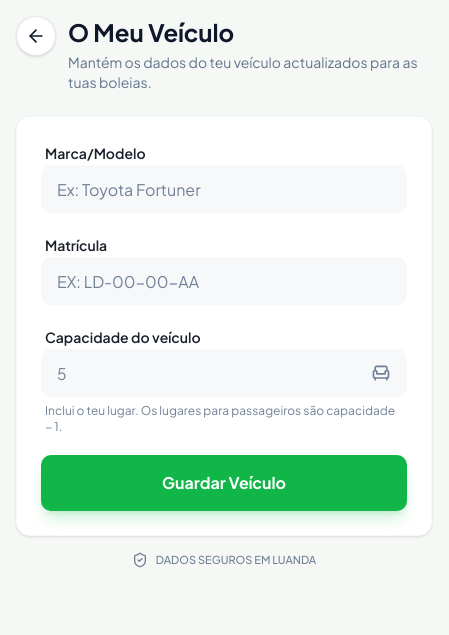
Scenario: VehicleSetup — Fluxo Upsert (Opção B — BD como Fonte da Verdade) › Submissão — .upsert() com onConflict: id_motorista › mostra mensagem de sucesso após upsert bem-sucedido
The image size is (449, 635).
Type "Toyota Hiace" into the field labelled "Marca/Modelo".
click(224, 189); type("Toyota Hiace")  # box [41,165,407,213]
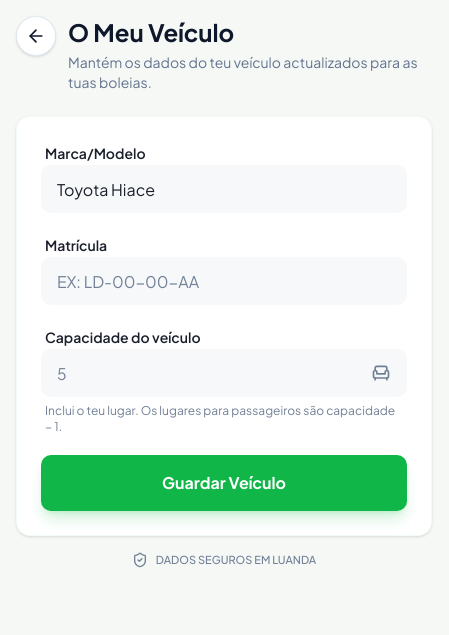
Type "LD-12-34-AB" into the field labelled "Matrícula".
click(224, 281); type("LD-12-34-AB")  # box [41,257,407,305]
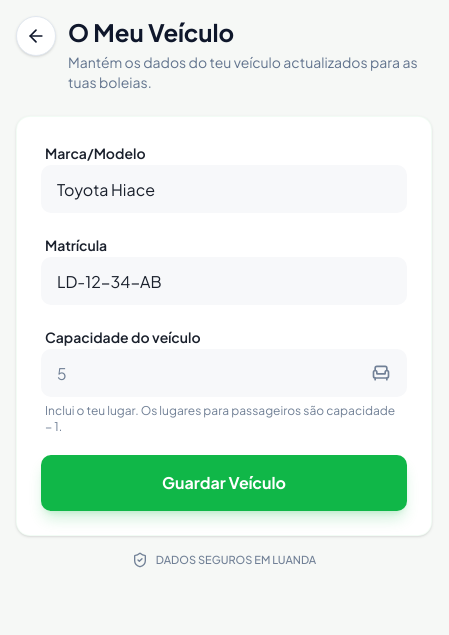
Type "8" into the number field labelled "Capacidade do veículo".
click(224, 373); type("8")  # box [41,349,407,397]
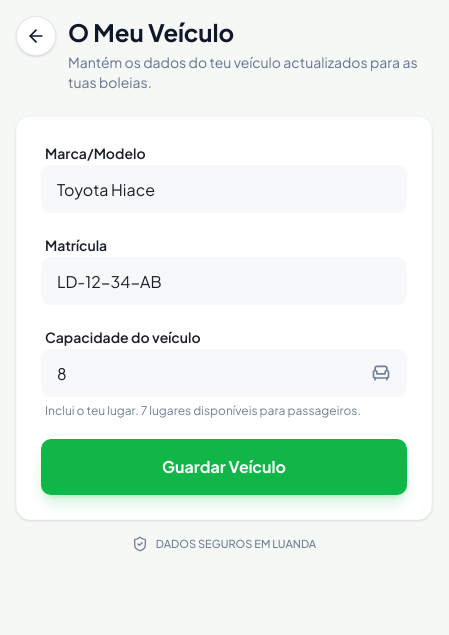
Click the button "Guardar Veículo".
click(224, 467)  # box [41,439,407,495]
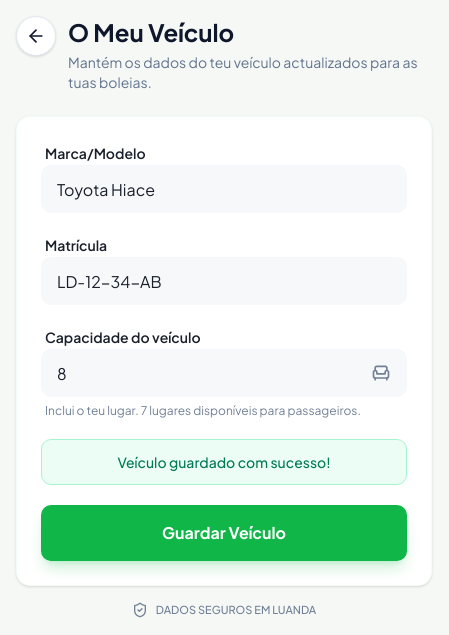
Now the message shows "sucesso", box [117,453,331,471]
